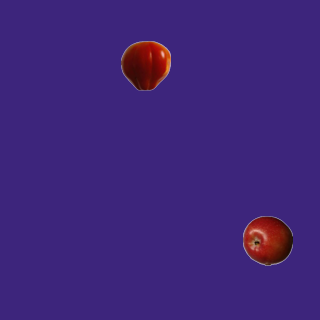Apple Braeburn: (242, 215, 292, 265)
Tomato 1: (120, 40, 170, 90)
